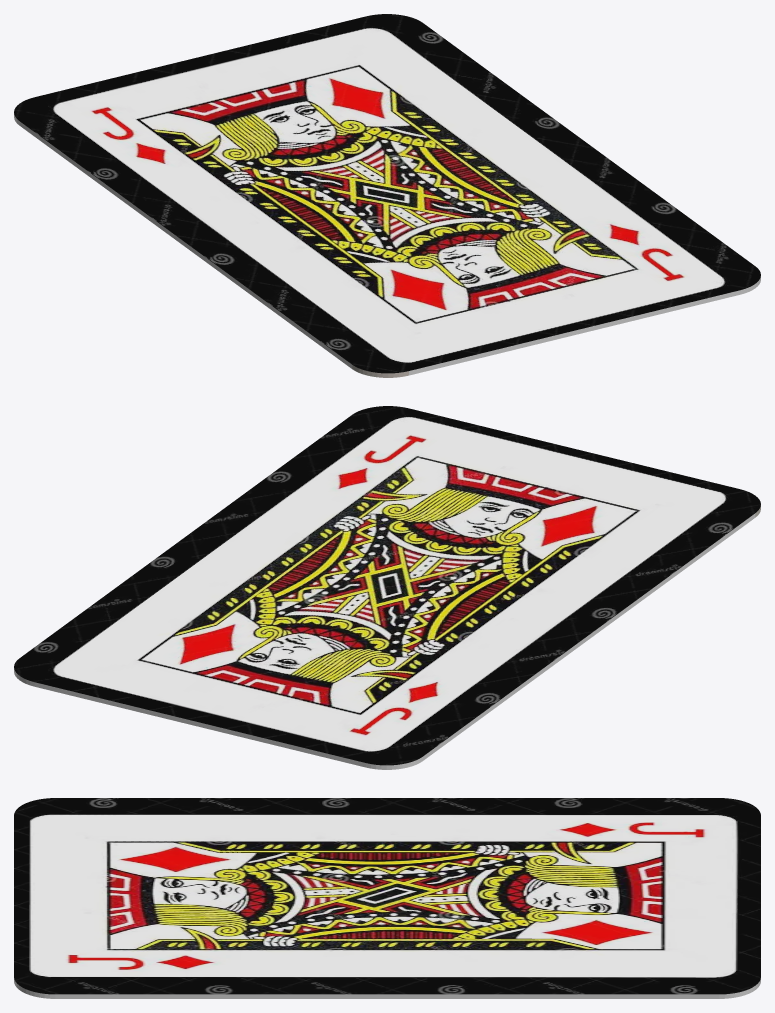
File: jack of diamonds.fbx
3 renders of one model, top to bottom at view 1: azimuth 30°, elevation 25°; view 2: azimuth 150°, elevation 25°; view 3: azimuth 270°, elevation 25°, orthographic.
Visible parts, largest first — view 1: Cube; view 2: Cube; view 3: Cube.
Boxes of the visible parts, x1,y1,x2,y2 form: Cube: (14,14,760,377); Cube: (14,406,760,769); Cube: (14,798,760,998).
Size of the model in its own units: 5.6 by 0.06 by 9.
3 materials, 2 textured.
